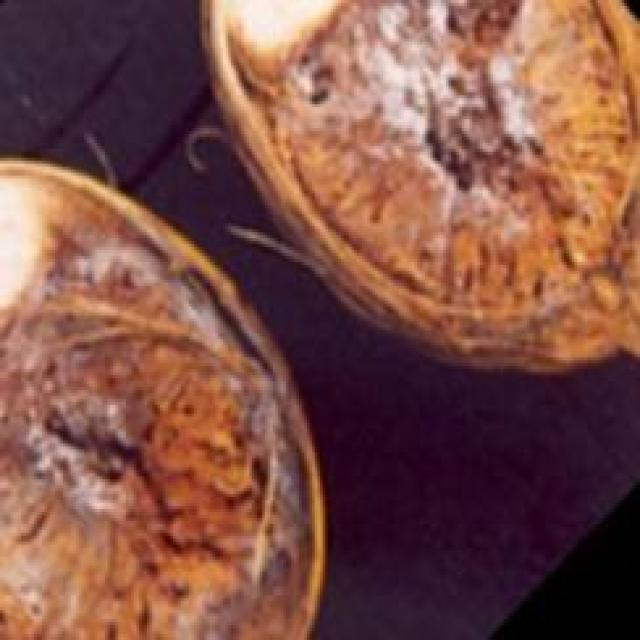damaged: (197, 0, 637, 378), (0, 158, 330, 637), (0, 158, 328, 637)
